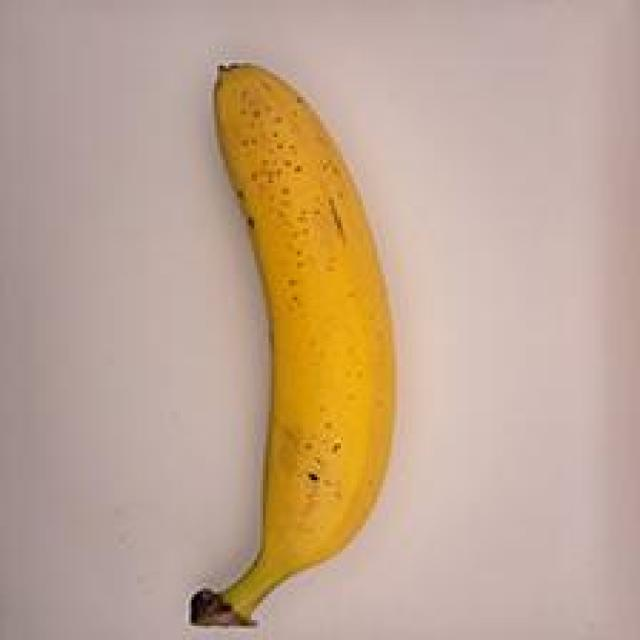ripe: (158, 25, 434, 640)
